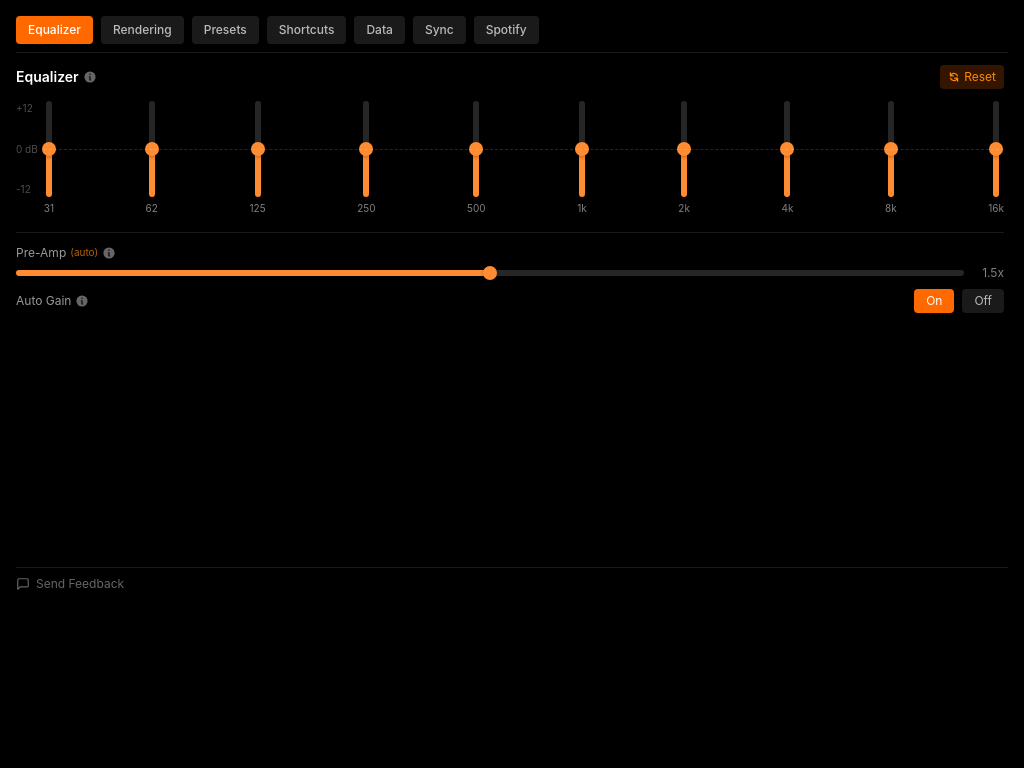
Test: SettingsPanel › switches to Rendering tab
Click the button "Rendering": x=142, y=30 [101,16,184,44]
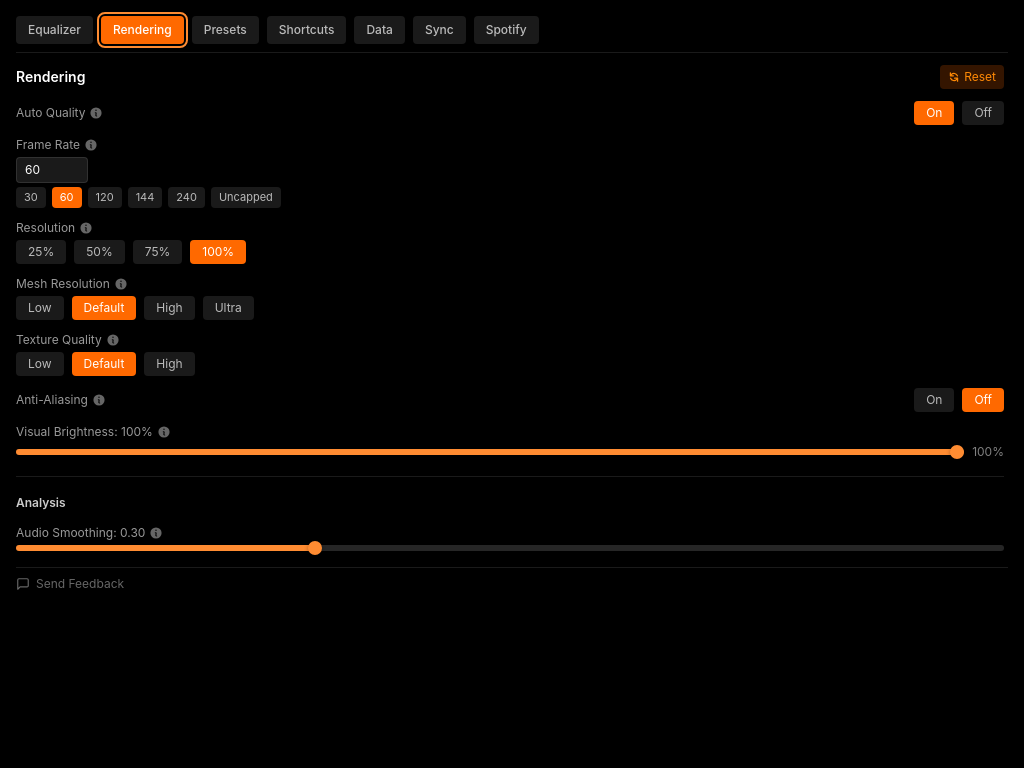
Expected: the text "Frame Rate" is shown, [16,137,98,152]
Expected: the text "Resolution" is shown, [16,220,93,234]
